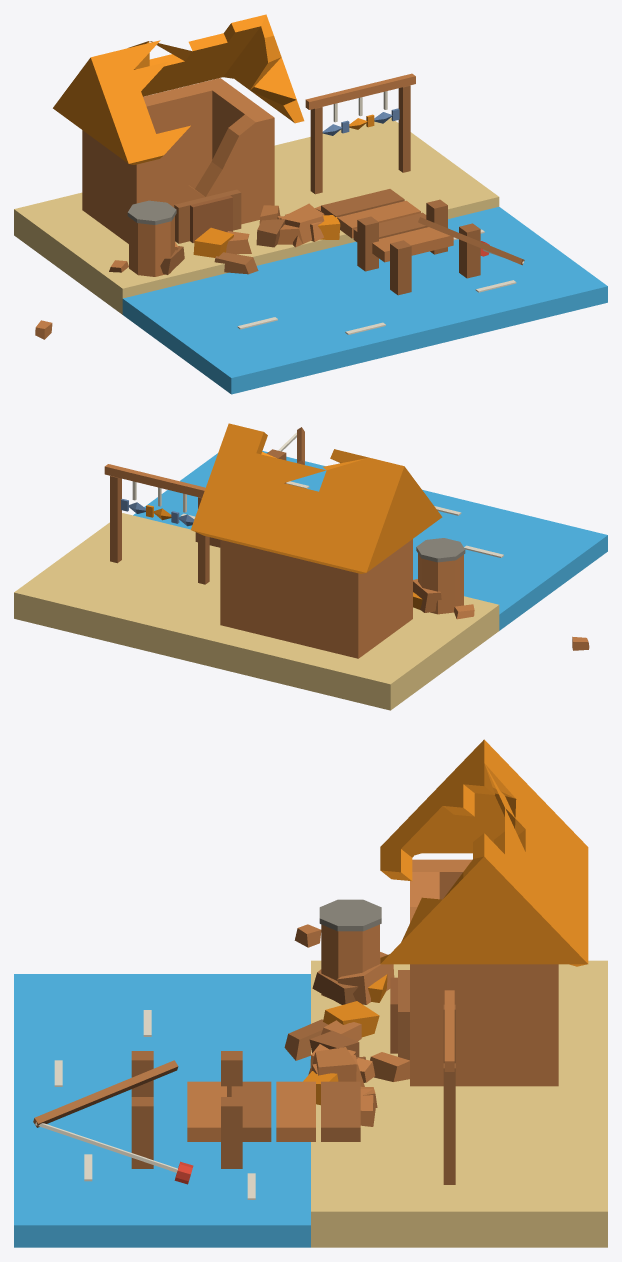
The model's file is fishery_t1_v1_dmg1.glb.
3 views of the same model, one above another, from view 1: azimuth 30°, elevation 25°; view 2: azimuth 150°, elevation 25°; view 3: azimuth 270°, elevation 25° (orthographic). The views are drawn at different scales.
Parts seen in each view (by area): view 1: fishery_t1_v1_dmg1; view 2: fishery_t1_v1_dmg1; view 3: fishery_t1_v1_dmg1.
Boxes of the visible parts, box(x1,y1,x2,y2) form: fishery_t1_v1_dmg1: box(14, 14, 607, 394); fishery_t1_v1_dmg1: box(14, 423, 607, 710); fishery_t1_v1_dmg1: box(14, 739, 607, 1247).
Bounding box in the file's own units: 0.7411 × 0.31 × 0.6.
Materials: 1 (1 with a texture image).
